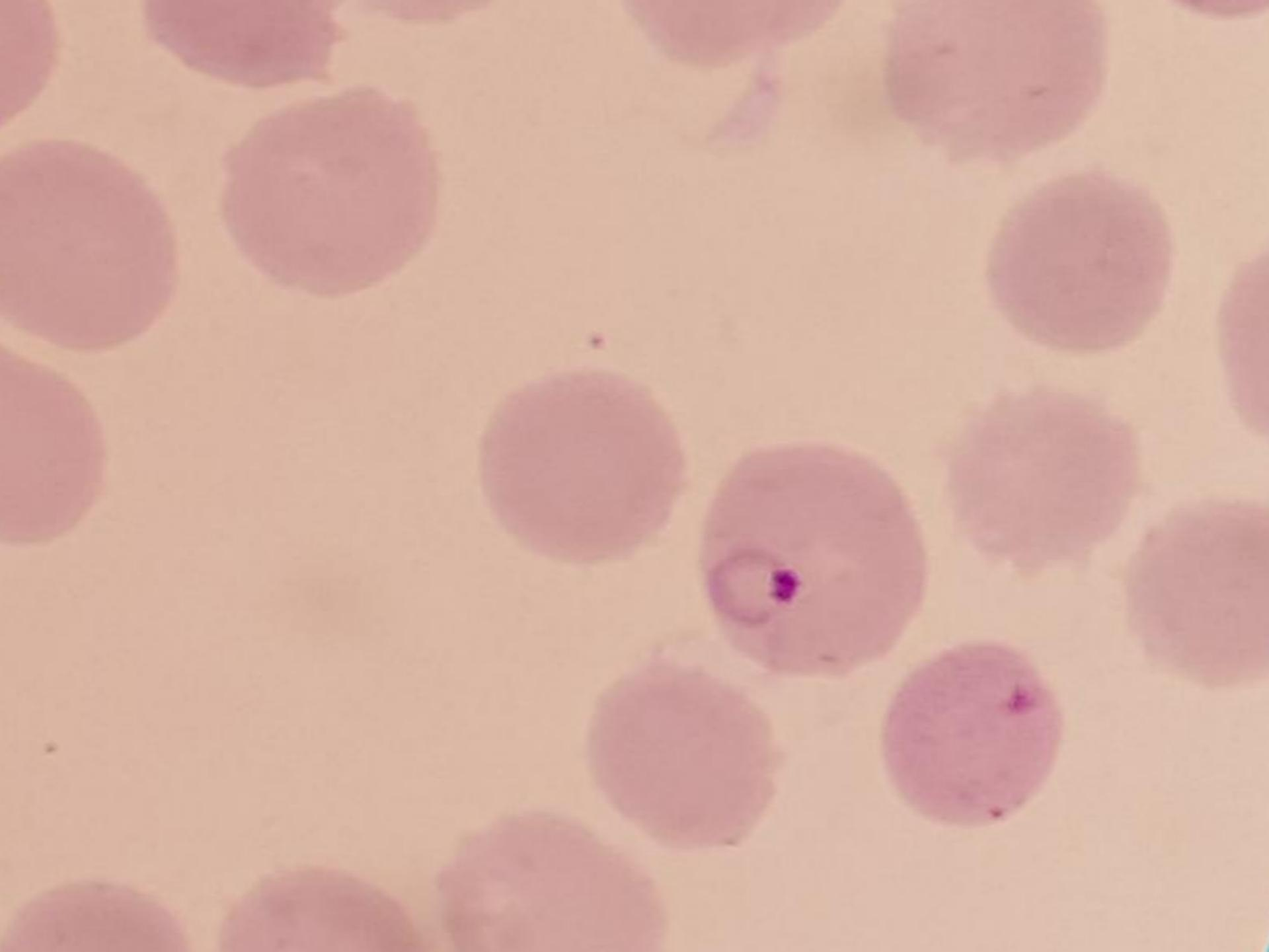Infected: (701, 436, 921, 673)
Uninfected: (223, 85, 442, 297), (940, 385, 1142, 577), (583, 664, 780, 854), (479, 374, 681, 559), (0, 144, 176, 351), (879, 0, 1106, 155), (985, 169, 1173, 353), (886, 644, 1061, 828), (436, 818, 670, 952), (1134, 502, 1269, 690)
